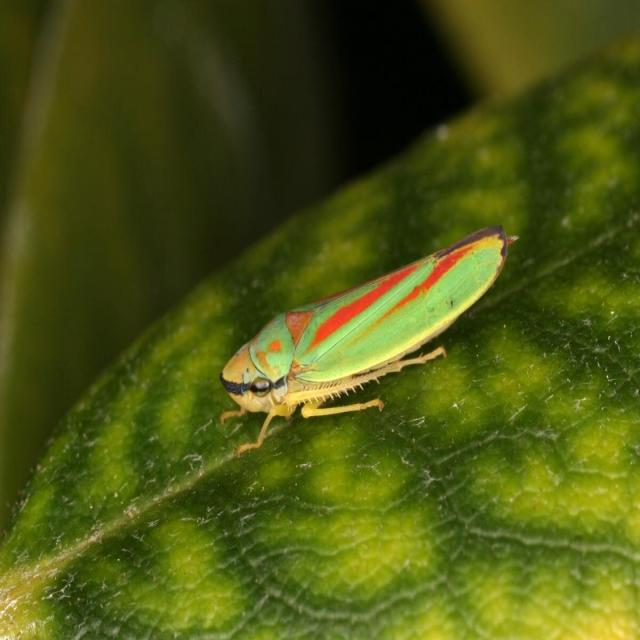Yechan: (204, 217, 517, 444)
